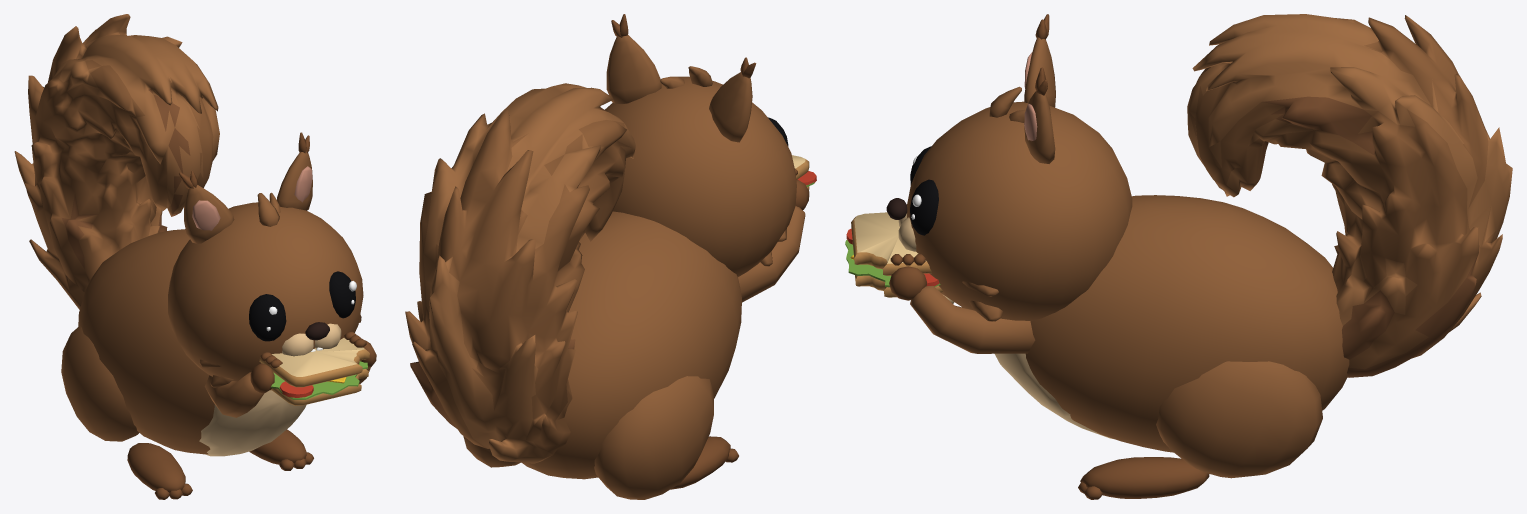
Rendered from squirrel.glb.
The picture shows the model from 3 angles, left to right: view 1: azimuth 30°, elevation 25°; view 2: azimuth 150°, elevation 25°; view 3: azimuth 270°, elevation 25°; orthographic projection. The views are drawn at different scales.
Visible parts, largest first — view 1: SquirrelBody, TailFur, Sandwich; view 2: SquirrelBody, TailFur, Sandwich; view 3: SquirrelBody, TailFur, Sandwich.
Part boxes in pixels (box(x1,y1,x2,y2)): SquirrelBody: box(61, 132, 376, 499); TailFur: box(14, 14, 219, 309); Sandwich: box(259, 338, 369, 405); SquirrelBody: box(463, 14, 809, 499); TailFur: box(405, 83, 635, 463); Sandwich: box(792, 155, 816, 190); SquirrelBody: box(886, 14, 1349, 499); TailFur: box(1187, 14, 1512, 377); Sandwich: box(845, 212, 942, 297).
Size of the model in its own units: 0.361 by 0.6539 by 0.8805.
